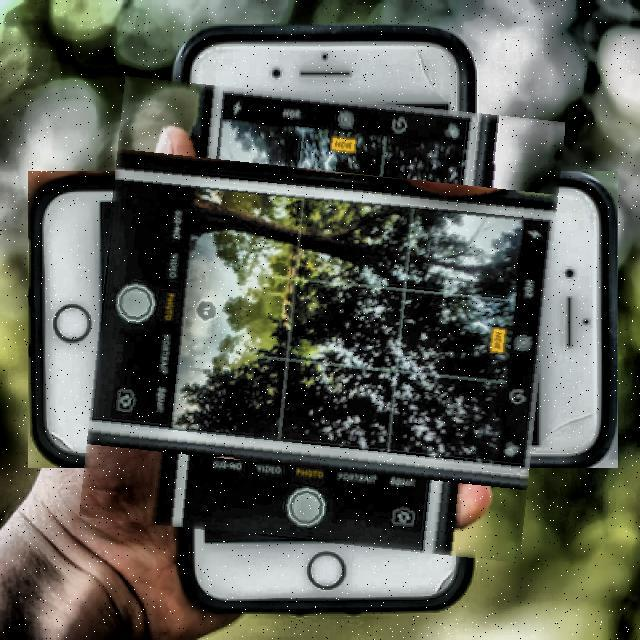Phone: (90, 87, 555, 552)
